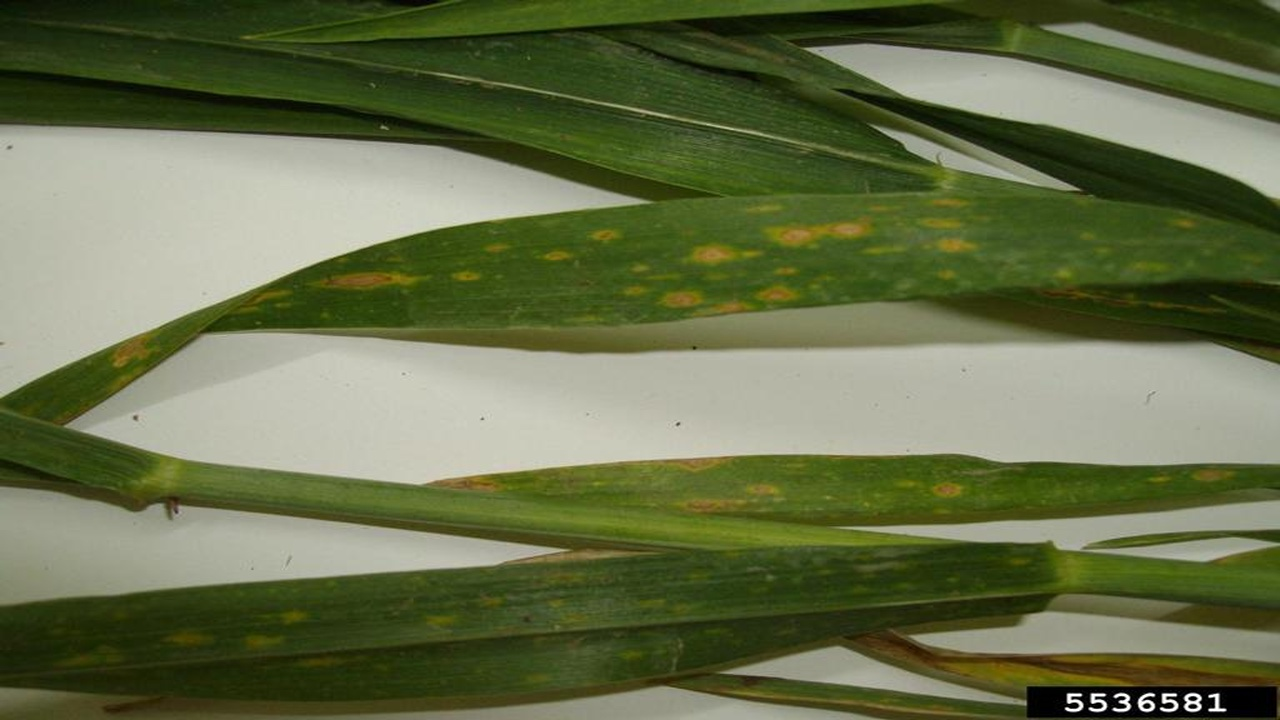tan_spot: (73, 194, 1269, 417), (1, 542, 1054, 713), (423, 454, 1274, 524)
